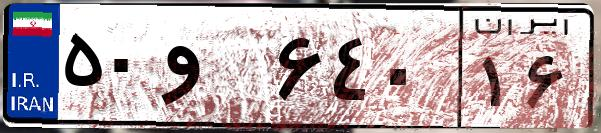0: (385, 28, 445, 110), (110, 28, 158, 98)
1: (475, 38, 525, 113)
4: (330, 28, 385, 110)
5: (57, 26, 110, 100)
6: (270, 28, 330, 110), (525, 38, 570, 115)
و: (158, 20, 270, 120)
